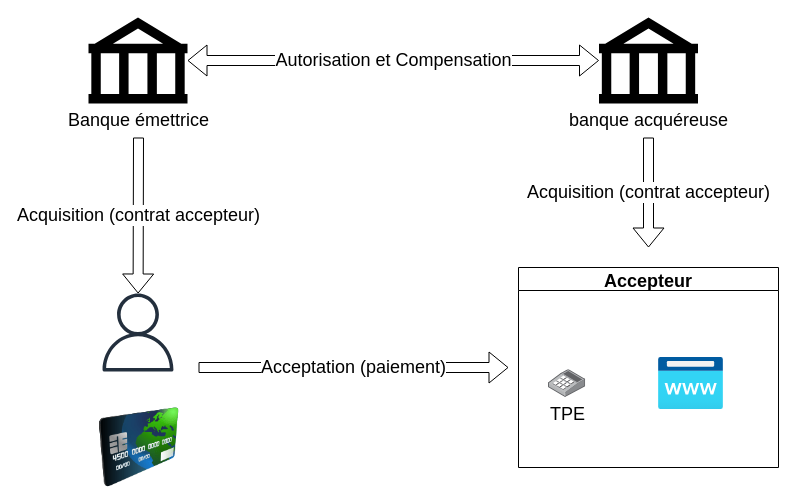
This 797x504 diagram has some shape labels left out. Each missing label, with the centre of its shape:
Paiement en ligne: [690,383]
Porteur: [137,332]
